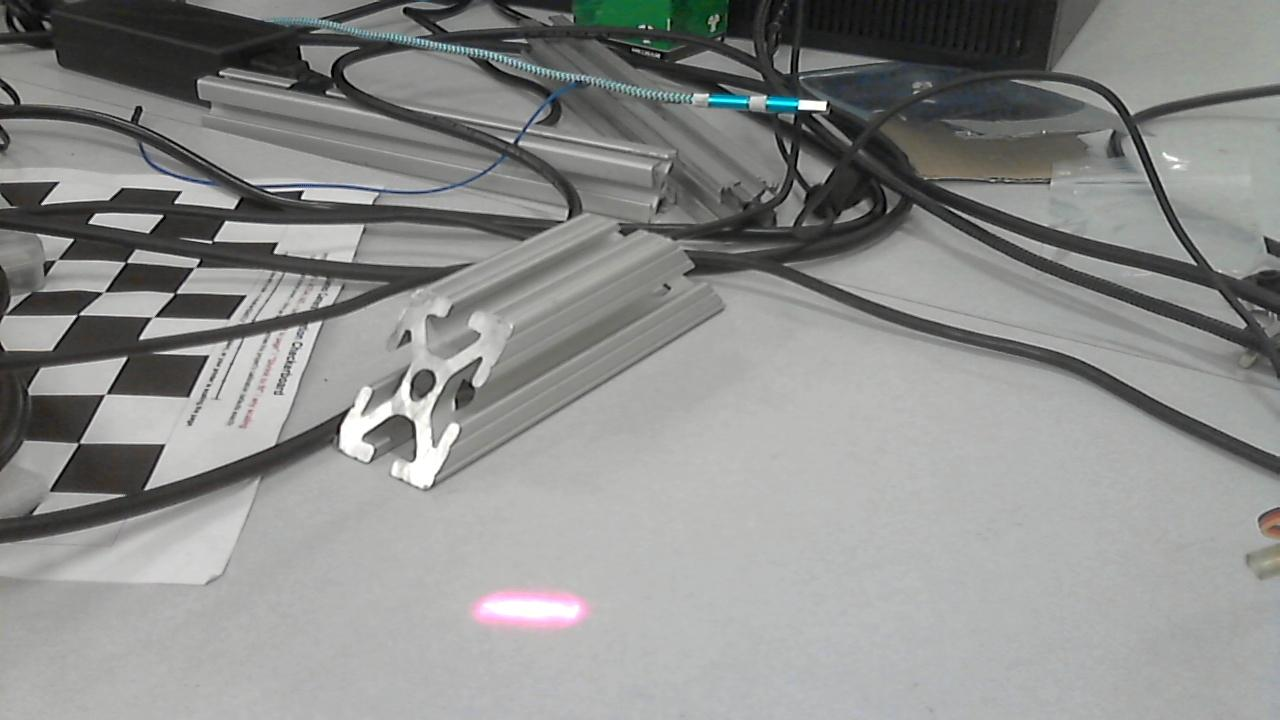Object tabletop - Material composite plastic - pdfname jhjasdfwat: (472, 578, 602, 637)
